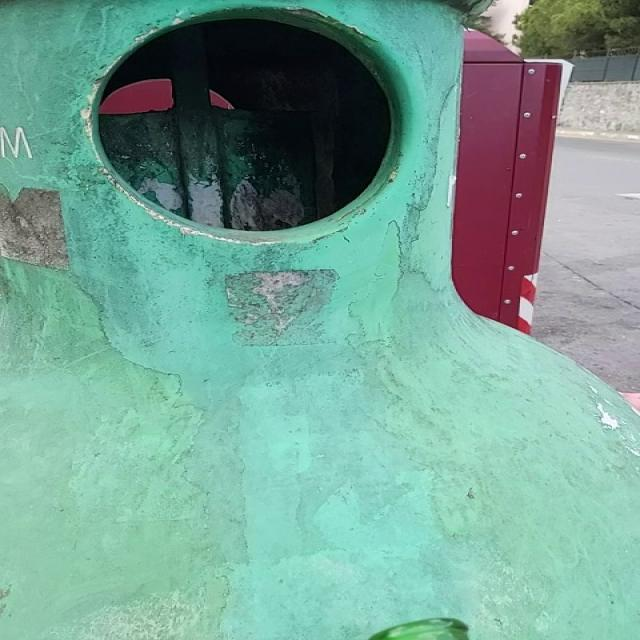glass: (371, 620, 469, 640)
